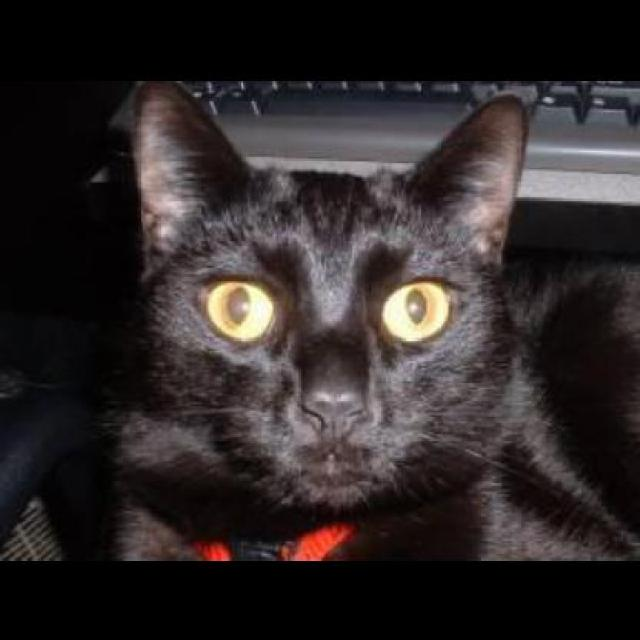unauthorized: (96, 78, 638, 560)
